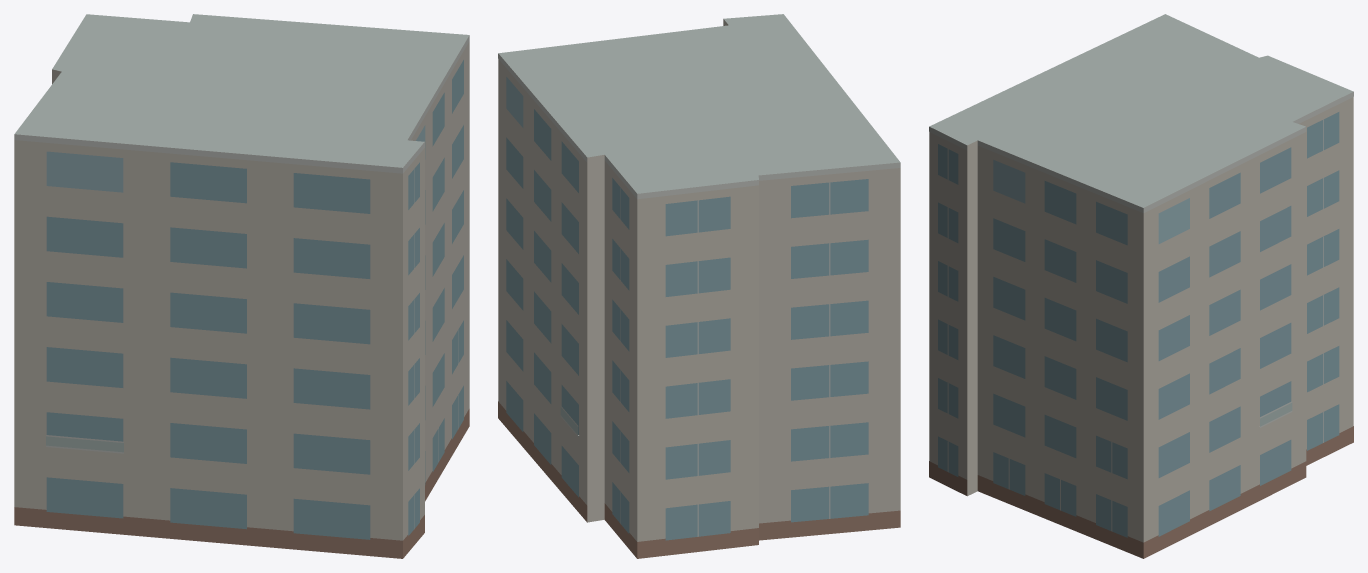
File: survey-upis-32725059.glb
3 renders of one model, left to right at view 1: azimuth 30°, elevation 25°; view 2: azimuth 150°, elevation 25°; view 3: azimuth 270°, elevation 25°, orthographic. The views are drawn at different scales.
Parts seen in each view (by area): view 1: survey-upis-32725059.tmp; view 2: survey-upis-32725059.tmp; view 3: survey-upis-32725059.tmp.
Part boxes in pixels (x1,y1,x2,y2): survey-upis-32725059.tmp: (14,14,469,558); survey-upis-32725059.tmp: (498,14,900,558); survey-upis-32725059.tmp: (929,14,1353,558).
Size of the model in its own units: 19.46 by 16.4 by 17.99.
